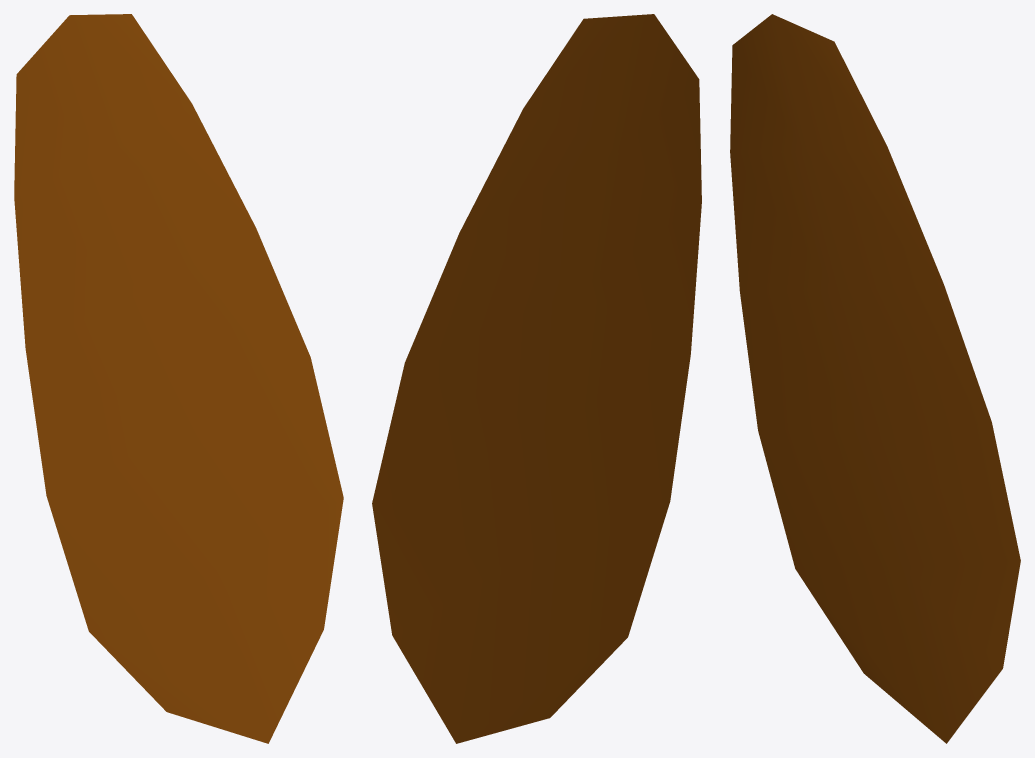
The model's file is ara_feather_flight_secondary_009.obj.
3 renders of one model, left to right at view 1: azimuth 30°, elevation 25°; view 2: azimuth 150°, elevation 25°; view 3: azimuth 330°, elevation 25°, orthographic. The views are drawn at different scales.
Visible parts, largest first — view 1: feather_flight_secondary_009; view 2: feather_flight_secondary_009; view 3: feather_flight_secondary_009.
Boxes of the visible parts, bbox=[...] form: feather_flight_secondary_009: bbox=[14, 14, 343, 743]; feather_flight_secondary_009: bbox=[372, 14, 701, 743]; feather_flight_secondary_009: bbox=[730, 14, 1020, 743].
Size of the model in its own units: 0.0337 by 0.0759 by 0.000876.
